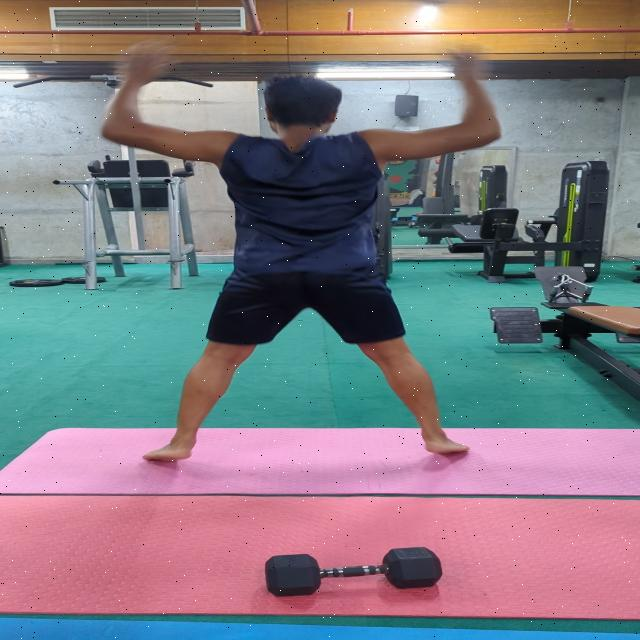Normal_JumpingJacks: (109, 30, 490, 462)
